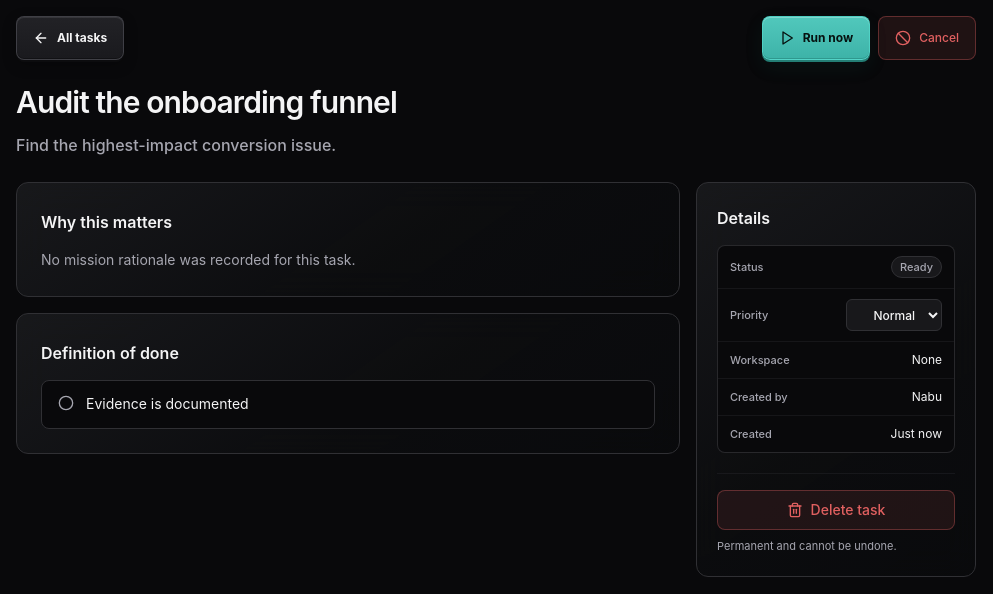
Test case: TaskDetailPage immediate execution › queues a ready task to run now
Click the button "Run now" at (816, 38), box x1=762 y1=16 x2=870 y2=60
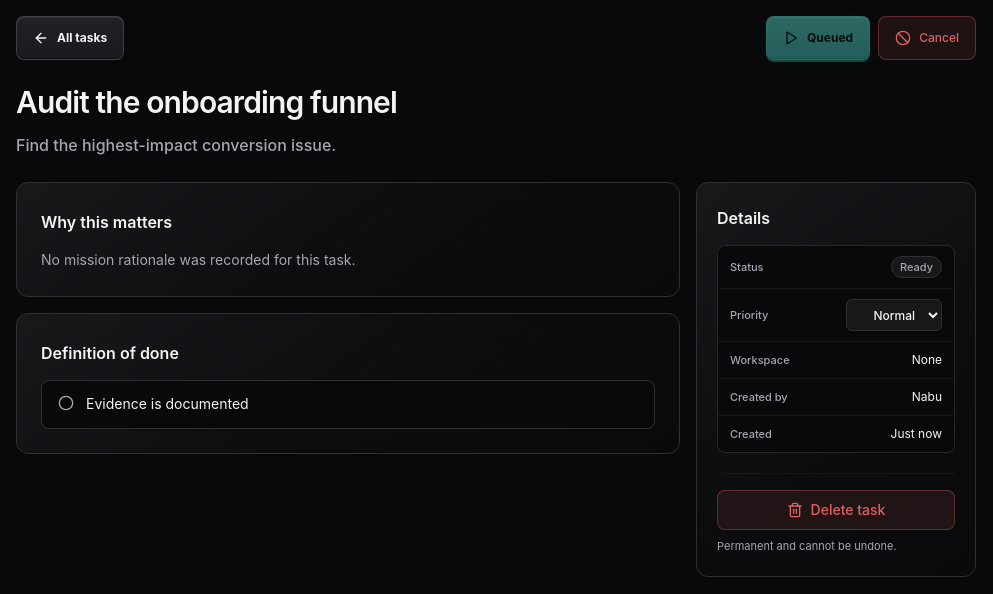
Expected: the button "Queued" is disabled, x1=766 y1=16 x2=870 y2=60
